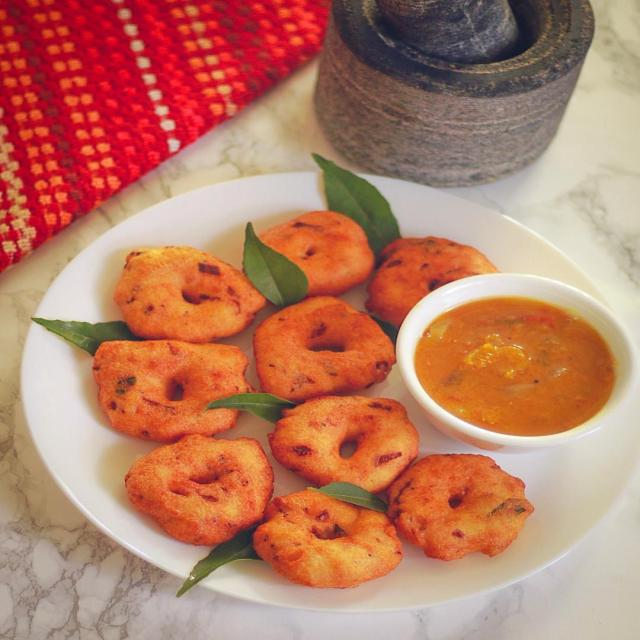Wet Waste: (422, 282, 612, 437), (378, 448, 539, 560), (259, 494, 412, 595), (105, 338, 252, 442), (138, 438, 278, 537), (272, 399, 414, 493), (129, 246, 260, 344), (259, 209, 371, 292), (375, 238, 472, 306)
